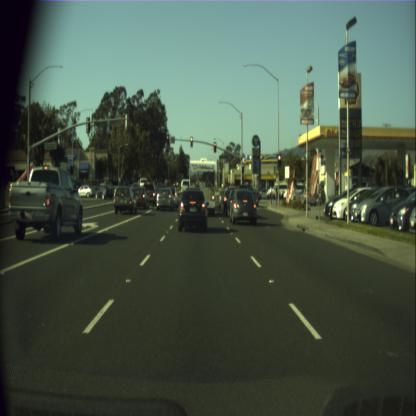Red: (277, 154, 280, 166), (190, 136, 193, 147), (213, 142, 216, 151), (166, 134, 168, 144), (242, 164, 244, 172)
